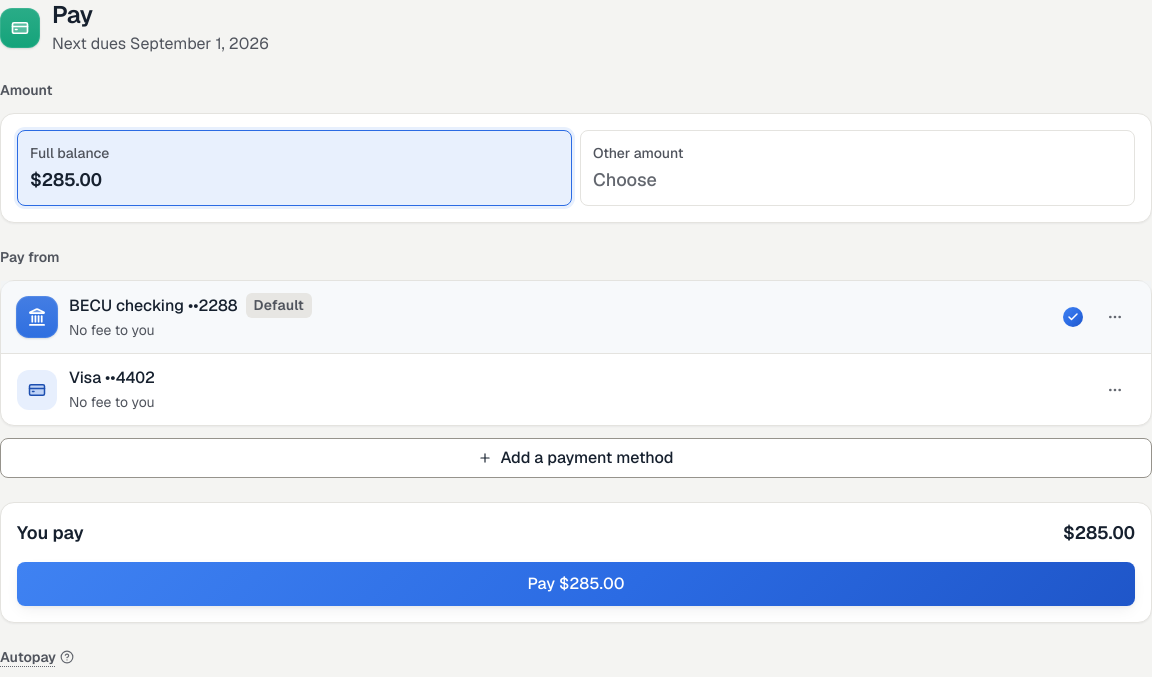
Test case: an amount that cannot be paid › says why next to the button that is off, not only above it
This screenshot has width=1152, height=677.
Click the text "Other amount".
click(638, 153)  # box [593,144,684,162]
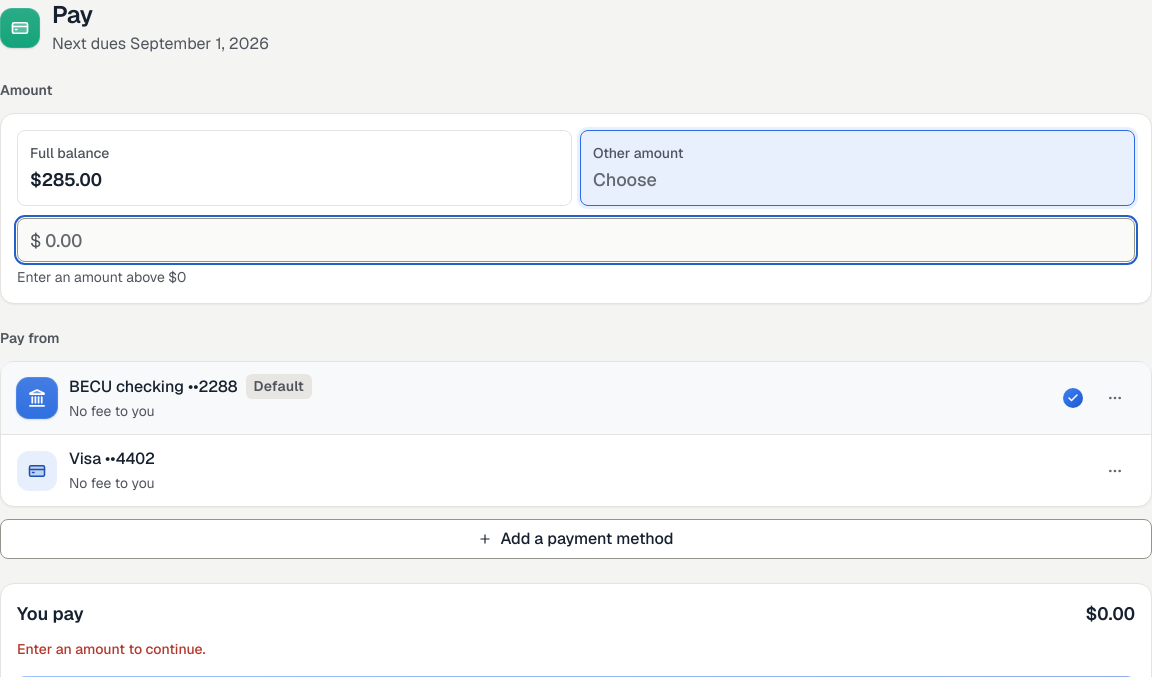
Type "285.001" into the field with placeholder "0.00".
click(584, 240); type("285.001")  # box [45,226,1122,254]
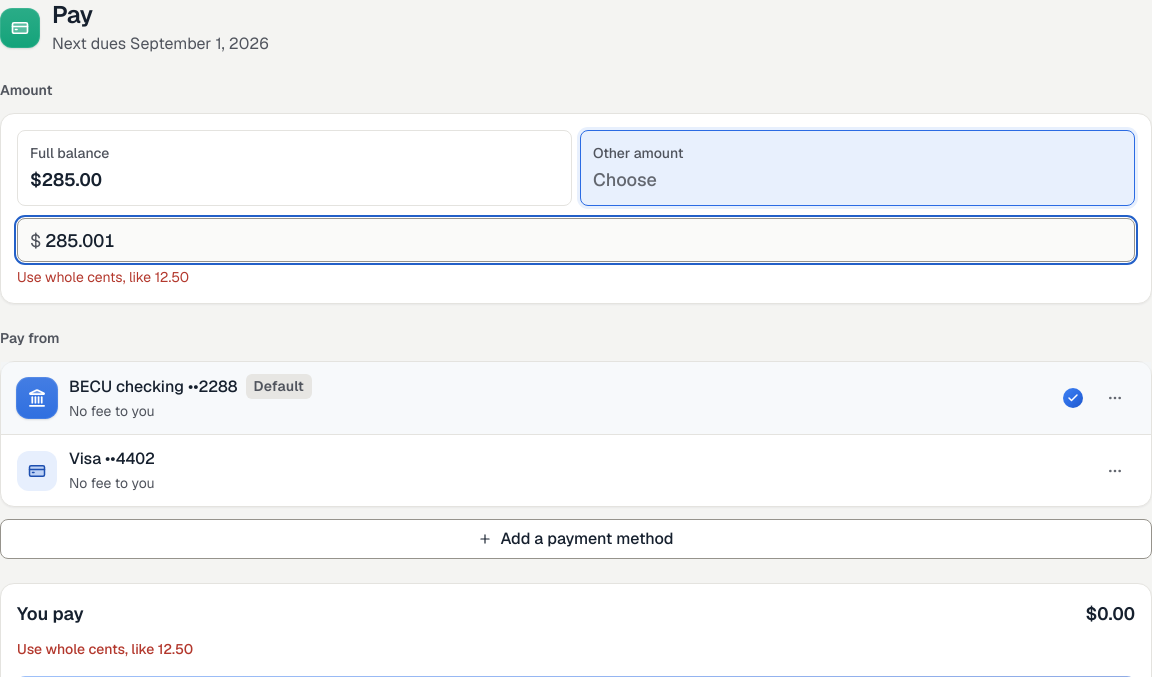
Check: the text "Use whole cents, like 12.50" is shown 2 times, box [17,268,189,286]; [17,640,193,658]
